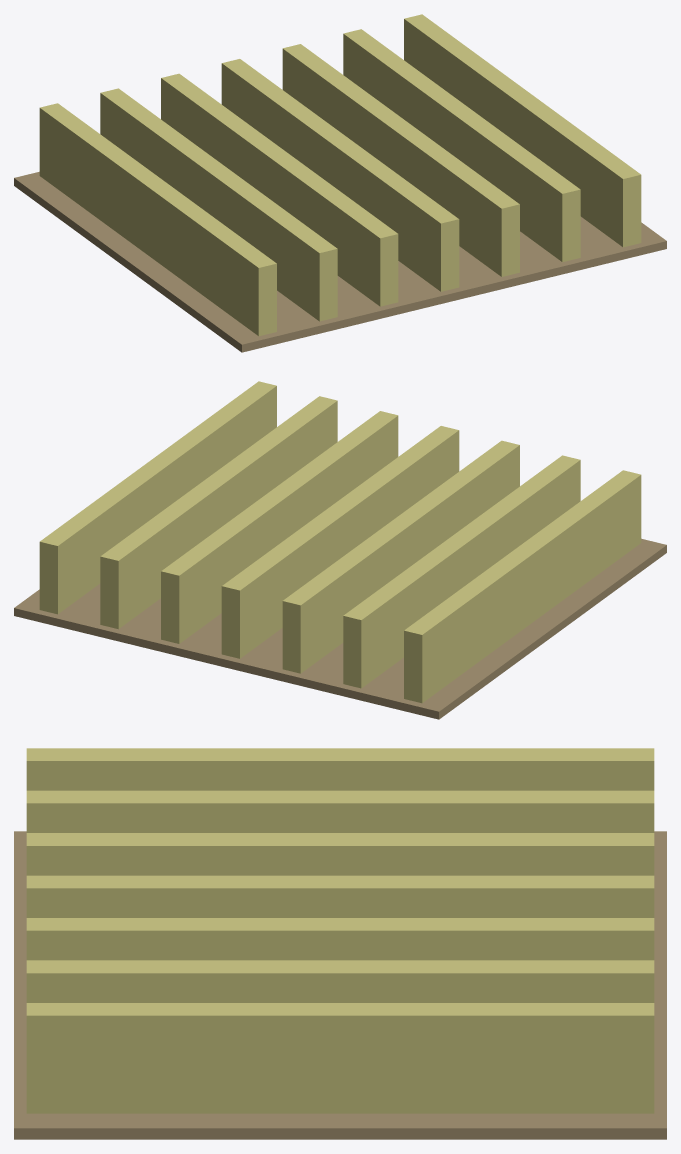
File: crop-row.glb
The picture shows the model from 3 angles, top to bottom: view 1: azimuth 30°, elevation 25°; view 2: azimuth 150°, elevation 25°; view 3: azimuth 270°, elevation 25°; orthographic projection. The views are drawn at different scales.
Bounding box in the file's own units: 2.8 × 0.48 × 2.6.
